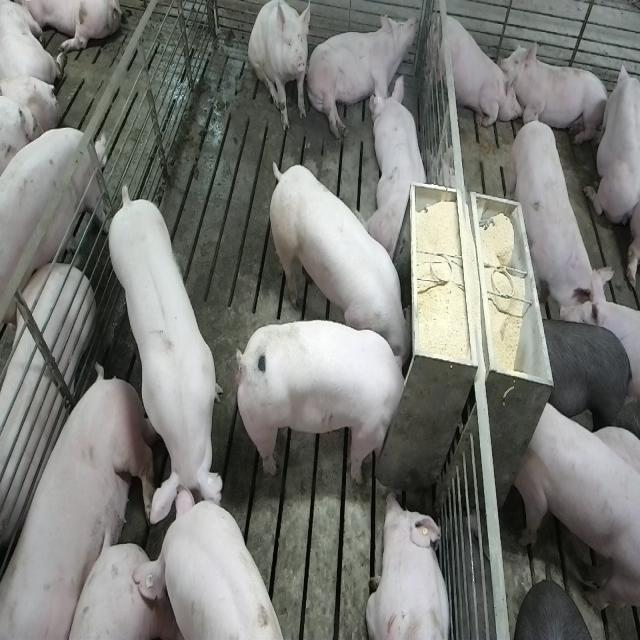Feeding: (264, 160, 412, 370), (231, 318, 408, 485)
Lateral_lying: (5, 367, 157, 640), (306, 13, 420, 143)
Sitting: (422, 7, 514, 141), (248, 2, 311, 134)
Standing: (105, 187, 222, 536), (0, 264, 93, 564), (514, 394, 638, 618), (0, 120, 107, 347), (512, 106, 612, 324), (154, 493, 286, 640), (541, 316, 636, 440)
Sternal_lying: (366, 490, 453, 640), (367, 73, 431, 260), (506, 41, 609, 148), (584, 55, 637, 226)
